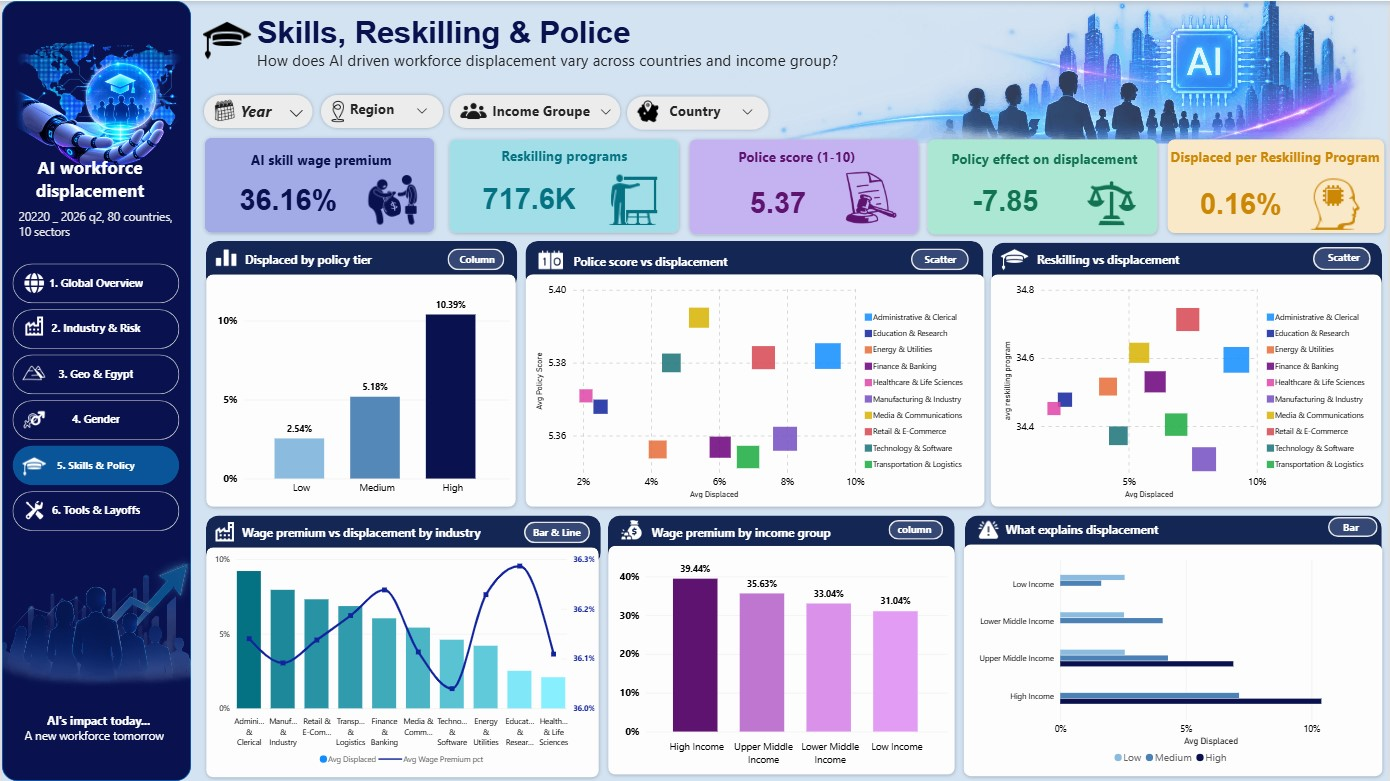

What the dashboard file says about the page in this screenshot:
{"tool":"powerbi","page":{"name":"5. Skills & Policy","canvas":[1920,1080],"ordinal":4},"visuals":[{"type":"shape","box":[0,0,261.7,1080],"z":0},{"type":"image","box":[960.5,0,958.2,197.6],"z":1000},{"type":"textbox","box":[353.9,18.4,579.1,71.2],"z":2000},{"type":"shape","box":[274.4,124.4,161.1,56.7],"z":3000},{"type":"textbox","box":[353.9,66.6,1236.3,32.2],"z":4000},{"type":"slicer","fields":{"Values":["year.year Hierarchy.year"]},"box":[295,132.5,133,44],"z":5000},{"type":"shape","box":[435.6,124.4,180,56.7],"z":6000},{"type":"image","box":[437.5,135,52.2,36.7],"z":7000},{"type":"slicer","fields":{"Values":["country.region"]},"box":[448.8,133.8,150,36.2],"z":8000},{"type":"shape","box":[615.6,124.4,246.7,56.7],"z":9000},{"type":"slicer","fields":{"Values":["country.income_group"]},"box":[656.7,135,196.7,36.7],"z":10000},{"type":"image","box":[627.5,133.8,51.1,36.7],"z":11000},{"type":"shape","box":[275,183,330.9,144.8],"z":12000},{"type":"textbox","box":[344.7,206.8,245.9,34.5],"z":13000},{"type":"image","box":[489.4,241.3,101.1,68.9],"z":14000},{"type":"cardVisual","fields":{"Data":["_Measures.Avg Wage Premium pct"]},"box":[312.5,232.5,170,84.3],"z":15000},{"type":"shape","box":[612.7,185.3,330.9,142.5],"z":16000},{"type":"textbox","box":[691.7,202.2,176.9,29.9],"z":17000},{"type":"image","box":[818,239,114.9,71.2],"z":18000},{"type":"shape","box":[318.8,137.5,27.5,35],"z":19000},{"type":"cardVisual","fields":{"Data":["_Measures.Total Reskilling Programs"]},"box":[634.2,232.1,193,82.7],"z":20000},{"type":"image","box":[272.5,133.8,73.3,37.8],"z":21000},{"type":"textbox","box":[330,137.5,50,30],"z":22000},{"type":"shape","box":[680,137.5,25,35],"z":23000},{"type":"shape","box":[473.8,135,31.2,35],"z":24000},{"type":"textbox","box":[482.5,137.5,77.5,28.8],"z":25000},{"type":"textbox","box":[678.8,140,138.9,28.9],"z":26000},{"type":"shape","box":[944.3,185.7,330.9,144.8],"z":27000},{"type":"textbox","box":[1020.3,204.5,207.1,30],"z":28000},{"type":"image","box":[1123.7,227.5,158.6,87.3],"z":29000},{"type":"cardVisual","fields":{"Data":["_Measures.Avg Policy Score"]},"box":[969.7,236.7,209.1,85],"z":30000},{"type":"shape","box":[1275.7,185.7,330.9,144.8],"z":31000},{"type":"image","box":[1485.2,240.8,102.9,77.8],"z":32000},{"type":"cardVisual","fields":{"Data":["_Measures.Policy Effect pp"]},"box":[1303.8,233.8,170,84.3],"z":33000},{"type":"textbox","box":[1314.6,205.7,276,27.6],"z":34000},{"type":"shape","box":[1607.1,185.7,312.9,142.9],"z":35000},{"type":"image","box":[1799.2,241.3,98.8,75.8],"z":36000},{"type":"cardVisual","fields":{"Data":["_Measures.Displaced per Reskilling Program"]},"box":[1630,238.6,170,84.3],"z":37000},{"type":"textbox","box":[1618.1,203.2,301,30.1],"z":38000},{"type":"image","box":[6.9,42.9,255.1,222.9],"z":39000},{"type":"textbox","box":[30.7,213.6,181.5,87.3],"z":40000},{"type":"textbox","box":[22.4,286.3,227.1,61.4],"z":41000},{"type":"textbox","box":[61.7,985,143.3,25],"z":42000},{"type":"textbox","box":[31.7,1005,203.3,33.3],"z":43000},{"type":"image","box":[0,739.9,262,232.1],"z":44000},{"type":"pageNavigator","box":[14.7,362.8,231.2,371.2],"z":45000},{"type":"image","box":[26.2,373.5,35,33],"z":46000},{"type":"image","box":[26.2,434.5,35,33],"z":47000},{"type":"image","box":[26.2,498.5,35,33],"z":48000},{"type":"image","box":[26.2,562.5,35,33],"z":49000},{"type":"image","box":[26.2,626.5,35,33],"z":50000},{"type":"image","box":[28.2,689.5,32,31],"z":51000},{"type":"shape","box":[860,126,207,57],"z":52000},{"type":"slicer","fields":{"Values":["country.country"]},"box":[902,134,148,37],"z":53000},{"type":"image","box":[872.9,137,44,31],"z":54000},{"type":"shape","box":[925.4,136.4,25,35],"z":55000},{"type":"textbox","box":[924,139,72,29],"z":56000},{"type":"image","box":[278,9.2,66.6,89.6],"z":57000},{"type":"shape","box":[281.7,331.7,431,66.7],"z":58000},{"type":"image","box":[290,338.9,39,34],"z":59000},{"type":"textbox","box":[335.5,347,225.2,32.2],"z":60000},{"type":"shape","box":[276.7,371.7,441.7,335],"z":61000},{"type":"shape","box":[616.7,341.7,78.8,30],"z":62000},{"type":"textbox","box":[633.3,346.7,80,25.7],"z":63000},{"type":"shape","box":[725,333.3,634,65],"z":64000},{"type":"image","box":[738,340,46.7,38.3],"z":65000},{"type":"textbox","box":[792,348,278.3,31.7],"z":66000},{"type":"shape","box":[718.3,371.7,648.3,335],"z":67000},{"type":"shape","box":[1370,335,540,67.5],"z":68000},{"type":"image","box":[1377.5,337.5,50,37.5],"z":69000},{"type":"textbox","box":[1433.9,347,280.3,32.2],"z":70000},{"type":"shape","box":[1258.9,342.2,80,30],"z":71000},{"type":"shape","box":[1363,371,554,335],"z":72000},{"type":"shape","box":[281.7,711.7,546.7,68.3],"z":73000},{"type":"image","box":[288.3,719.3,39,34],"z":74000},{"type":"textbox","box":[332.9,725.7,371.4,22.9],"z":75000},{"type":"shape","box":[276.7,750,556.7,331.7],"z":76000},{"type":"shape","box":[723.3,720,91.4,30],"z":77000},{"type":"textbox","box":[735,725,80,25.7],"z":78000},{"type":"shape","box":[840,711.4,480,65.7],"z":79000},{"type":"image","box":[854.3,717.1,36,32],"z":80000},{"type":"textbox","box":[900,724.3,278.3,31.7],"z":81000},{"type":"shape","box":[1333,711.4,577,68.6],"z":82000},{"type":"image","box":[1348.6,717.1,36,32],"z":83000},{"type":"textbox","box":[1388.6,721.4,348.6,31.4],"z":84000},{"type":"shape","box":[1835.5,715.5,68.9,27.8],"z":85000},{"type":"textbox","box":[1856.7,718.9,41.1,25.6],"z":86000},{"type":"shape","box":[1227.1,718.6,75.7,27.1],"z":87000},{"type":"textbox","box":[1277.8,346.7,65,30],"z":88000},{"type":"shape","box":[1325.7,745.7,592.9,334.3],"z":89000},{"type":"shape","box":[832.9,748.6,492.9,330],"z":90000},{"type":"columnChart","fields":{"Category":["fact_table.Policy Tier"],"Y":["_Measures.Avg Displaced"]},"box":[281.7,376.7,436.7,328.3],"z":91000},{"type":"textbox","box":[1240,721.4,80,27.1],"z":92000},{"type":"scatterChart","fields":{"Category":["sector.industry_sector"],"Series":["sector.industry_sector"],"Size":["_Measures.Avg Displaced"],"X":["_Measures.Avg Displaced"],"Y":["_Measures.Avg Policy Score"]},"box":[723.3,376.7,633.3,328.3],"z":93000},{"type":"shape","box":[1815.6,340,80,32.2],"z":94000},{"type":"textbox","box":[1835.6,344.4,65,30],"z":95000},{"type":"scatterChart","fields":{"Category":["sector.industry_sector"],"Series":["sector.industry_sector"],"Size":["_Measures.Avg Displaced"],"X":["_Measures.Avg Displaced"],"Y":["_Measures.avg reskilling program"]},"box":[1370,375,541.7,328.3],"z":96000},{"type":"lineStackedColumnComboChart","fields":{"Category":["sector.industry_sector"],"Y":["_Measures.Avg Displaced"],"Y2":["_Measures.Avg Wage Premium pct"]},"box":[273.3,750,561.7,328.3],"z":97000},{"type":"columnChart","fields":{"Category":["country.income_group"],"Y":["_Measures.Avg Wage Premium pct"]},"box":[840,752.9,485.7,325.7],"z":98000},{"type":"clusteredBarChart","fields":{"Category":["country.income_group"],"Series":["fact_table.Policy Tier"],"Y":["_Measures.Avg Displaced"]},"box":[1330,752.9,581.4,325.7],"z":99000}]}

Visuals, with their boxes on the page's 1920x1080 design canvas (x1, y1, x2, y2). These are canvas units, not pixel positions in the 1390x781 screenshot, which may show the page scaled, cropped or inside an application window:
shape: [x1=0, y1=0, x2=262, y2=1080]
image: [x1=960, y1=0, x2=1919, y2=198]
textbox: [x1=354, y1=18, x2=933, y2=90]
shape: [x1=274, y1=124, x2=436, y2=181]
textbox: [x1=354, y1=67, x2=1590, y2=99]
slicer - year.year Hierarchy.year: [x1=295, y1=132, x2=428, y2=176]
shape: [x1=436, y1=124, x2=616, y2=181]
image: [x1=438, y1=135, x2=490, y2=172]
slicer - country.region: [x1=449, y1=134, x2=599, y2=170]
shape: [x1=616, y1=124, x2=862, y2=181]
slicer - country.income_group: [x1=657, y1=135, x2=853, y2=172]
image: [x1=628, y1=134, x2=679, y2=170]
shape: [x1=275, y1=183, x2=606, y2=328]
textbox: [x1=345, y1=207, x2=591, y2=241]
image: [x1=489, y1=241, x2=590, y2=310]
cardVisual - _Measures.Avg Wage Premium pct: [x1=312, y1=232, x2=482, y2=317]
shape: [x1=613, y1=185, x2=944, y2=328]
textbox: [x1=692, y1=202, x2=869, y2=232]
image: [x1=818, y1=239, x2=933, y2=310]
shape: [x1=319, y1=138, x2=346, y2=172]
cardVisual - _Measures.Total Reskilling Programs: [x1=634, y1=232, x2=827, y2=315]
image: [x1=272, y1=134, x2=346, y2=172]
textbox: [x1=330, y1=138, x2=380, y2=168]
shape: [x1=680, y1=138, x2=705, y2=172]
shape: [x1=474, y1=135, x2=505, y2=170]
textbox: [x1=482, y1=138, x2=560, y2=166]
textbox: [x1=679, y1=140, x2=818, y2=169]
shape: [x1=944, y1=186, x2=1275, y2=330]
textbox: [x1=1020, y1=204, x2=1227, y2=234]
image: [x1=1124, y1=228, x2=1282, y2=315]
cardVisual - _Measures.Avg Policy Score: [x1=970, y1=237, x2=1179, y2=322]
shape: [x1=1276, y1=186, x2=1607, y2=330]
image: [x1=1485, y1=241, x2=1588, y2=319]
cardVisual - _Measures.Policy Effect pp: [x1=1304, y1=234, x2=1474, y2=318]
textbox: [x1=1315, y1=206, x2=1591, y2=233]
shape: [x1=1607, y1=186, x2=1920, y2=329]
image: [x1=1799, y1=241, x2=1898, y2=317]
cardVisual - _Measures.Displaced per Reskilling Program: [x1=1630, y1=239, x2=1800, y2=323]
textbox: [x1=1618, y1=203, x2=1919, y2=233]
image: [x1=7, y1=43, x2=262, y2=266]
textbox: [x1=31, y1=214, x2=212, y2=301]
textbox: [x1=22, y1=286, x2=250, y2=348]
textbox: [x1=62, y1=985, x2=205, y2=1010]
textbox: [x1=32, y1=1005, x2=235, y2=1038]
image: [x1=0, y1=740, x2=262, y2=972]
pageNavigator: [x1=15, y1=363, x2=246, y2=734]
image: [x1=26, y1=374, x2=61, y2=406]
image: [x1=26, y1=434, x2=61, y2=468]
image: [x1=26, y1=498, x2=61, y2=532]
image: [x1=26, y1=562, x2=61, y2=596]
image: [x1=26, y1=626, x2=61, y2=660]
image: [x1=28, y1=690, x2=60, y2=720]
shape: [x1=860, y1=126, x2=1067, y2=183]
slicer - country.country: [x1=902, y1=134, x2=1050, y2=171]
image: [x1=873, y1=137, x2=917, y2=168]
shape: [x1=925, y1=136, x2=950, y2=171]
textbox: [x1=924, y1=139, x2=996, y2=168]
image: [x1=278, y1=9, x2=345, y2=99]
shape: [x1=282, y1=332, x2=713, y2=398]
image: [x1=290, y1=339, x2=329, y2=373]
textbox: [x1=336, y1=347, x2=561, y2=379]
shape: [x1=277, y1=372, x2=718, y2=707]
shape: [x1=617, y1=342, x2=696, y2=372]
textbox: [x1=633, y1=347, x2=713, y2=372]
shape: [x1=725, y1=333, x2=1359, y2=398]
image: [x1=738, y1=340, x2=785, y2=378]
textbox: [x1=792, y1=348, x2=1070, y2=380]
shape: [x1=718, y1=372, x2=1367, y2=707]
shape: [x1=1370, y1=335, x2=1910, y2=402]
image: [x1=1378, y1=338, x2=1428, y2=375]
textbox: [x1=1434, y1=347, x2=1714, y2=379]
shape: [x1=1259, y1=342, x2=1339, y2=372]
shape: [x1=1363, y1=371, x2=1917, y2=706]
shape: [x1=282, y1=712, x2=828, y2=780]
image: [x1=288, y1=719, x2=327, y2=753]
textbox: [x1=333, y1=726, x2=704, y2=749]
shape: [x1=277, y1=750, x2=833, y2=1082]
shape: [x1=723, y1=720, x2=815, y2=750]
textbox: [x1=735, y1=725, x2=815, y2=751]
shape: [x1=840, y1=711, x2=1320, y2=777]
image: [x1=854, y1=717, x2=890, y2=749]
textbox: [x1=900, y1=724, x2=1178, y2=756]
shape: [x1=1333, y1=711, x2=1910, y2=780]
image: [x1=1349, y1=717, x2=1385, y2=749]
textbox: [x1=1389, y1=721, x2=1737, y2=753]
shape: [x1=1836, y1=716, x2=1904, y2=743]
textbox: [x1=1857, y1=719, x2=1898, y2=744]
shape: [x1=1227, y1=719, x2=1303, y2=746]
textbox: [x1=1278, y1=347, x2=1343, y2=377]
shape: [x1=1326, y1=746, x2=1919, y2=1080]
shape: [x1=833, y1=749, x2=1326, y2=1079]
columnChart - fact_table.Policy Tier x _Measures.Avg Displaced: [x1=282, y1=377, x2=718, y2=705]
textbox: [x1=1240, y1=721, x2=1320, y2=748]
scatterChart - sector.industry_sector x sector.industry_sector: [x1=723, y1=377, x2=1357, y2=705]
shape: [x1=1816, y1=340, x2=1896, y2=372]
textbox: [x1=1836, y1=344, x2=1901, y2=374]
scatterChart - sector.industry_sector x sector.industry_sector: [x1=1370, y1=375, x2=1912, y2=703]
lineStackedColumnComboChart - sector.industry_sector x _Measures.Avg Displaced: [x1=273, y1=750, x2=835, y2=1078]
columnChart - country.income_group x _Measures.Avg Wage Premium pct: [x1=840, y1=753, x2=1326, y2=1079]
clusteredBarChart - country.income_group x fact_table.Policy Tier: [x1=1330, y1=753, x2=1911, y2=1079]
